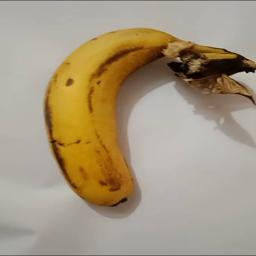Banana Semifresh: (38, 25, 255, 208)
